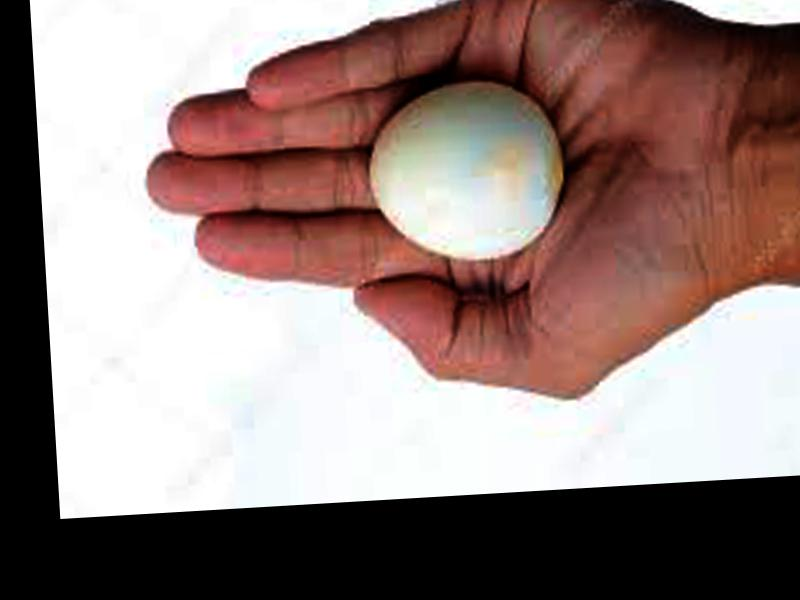Eggs: (361, 79, 567, 262)
